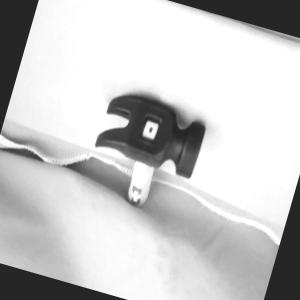martelo: (80, 84, 210, 218)
